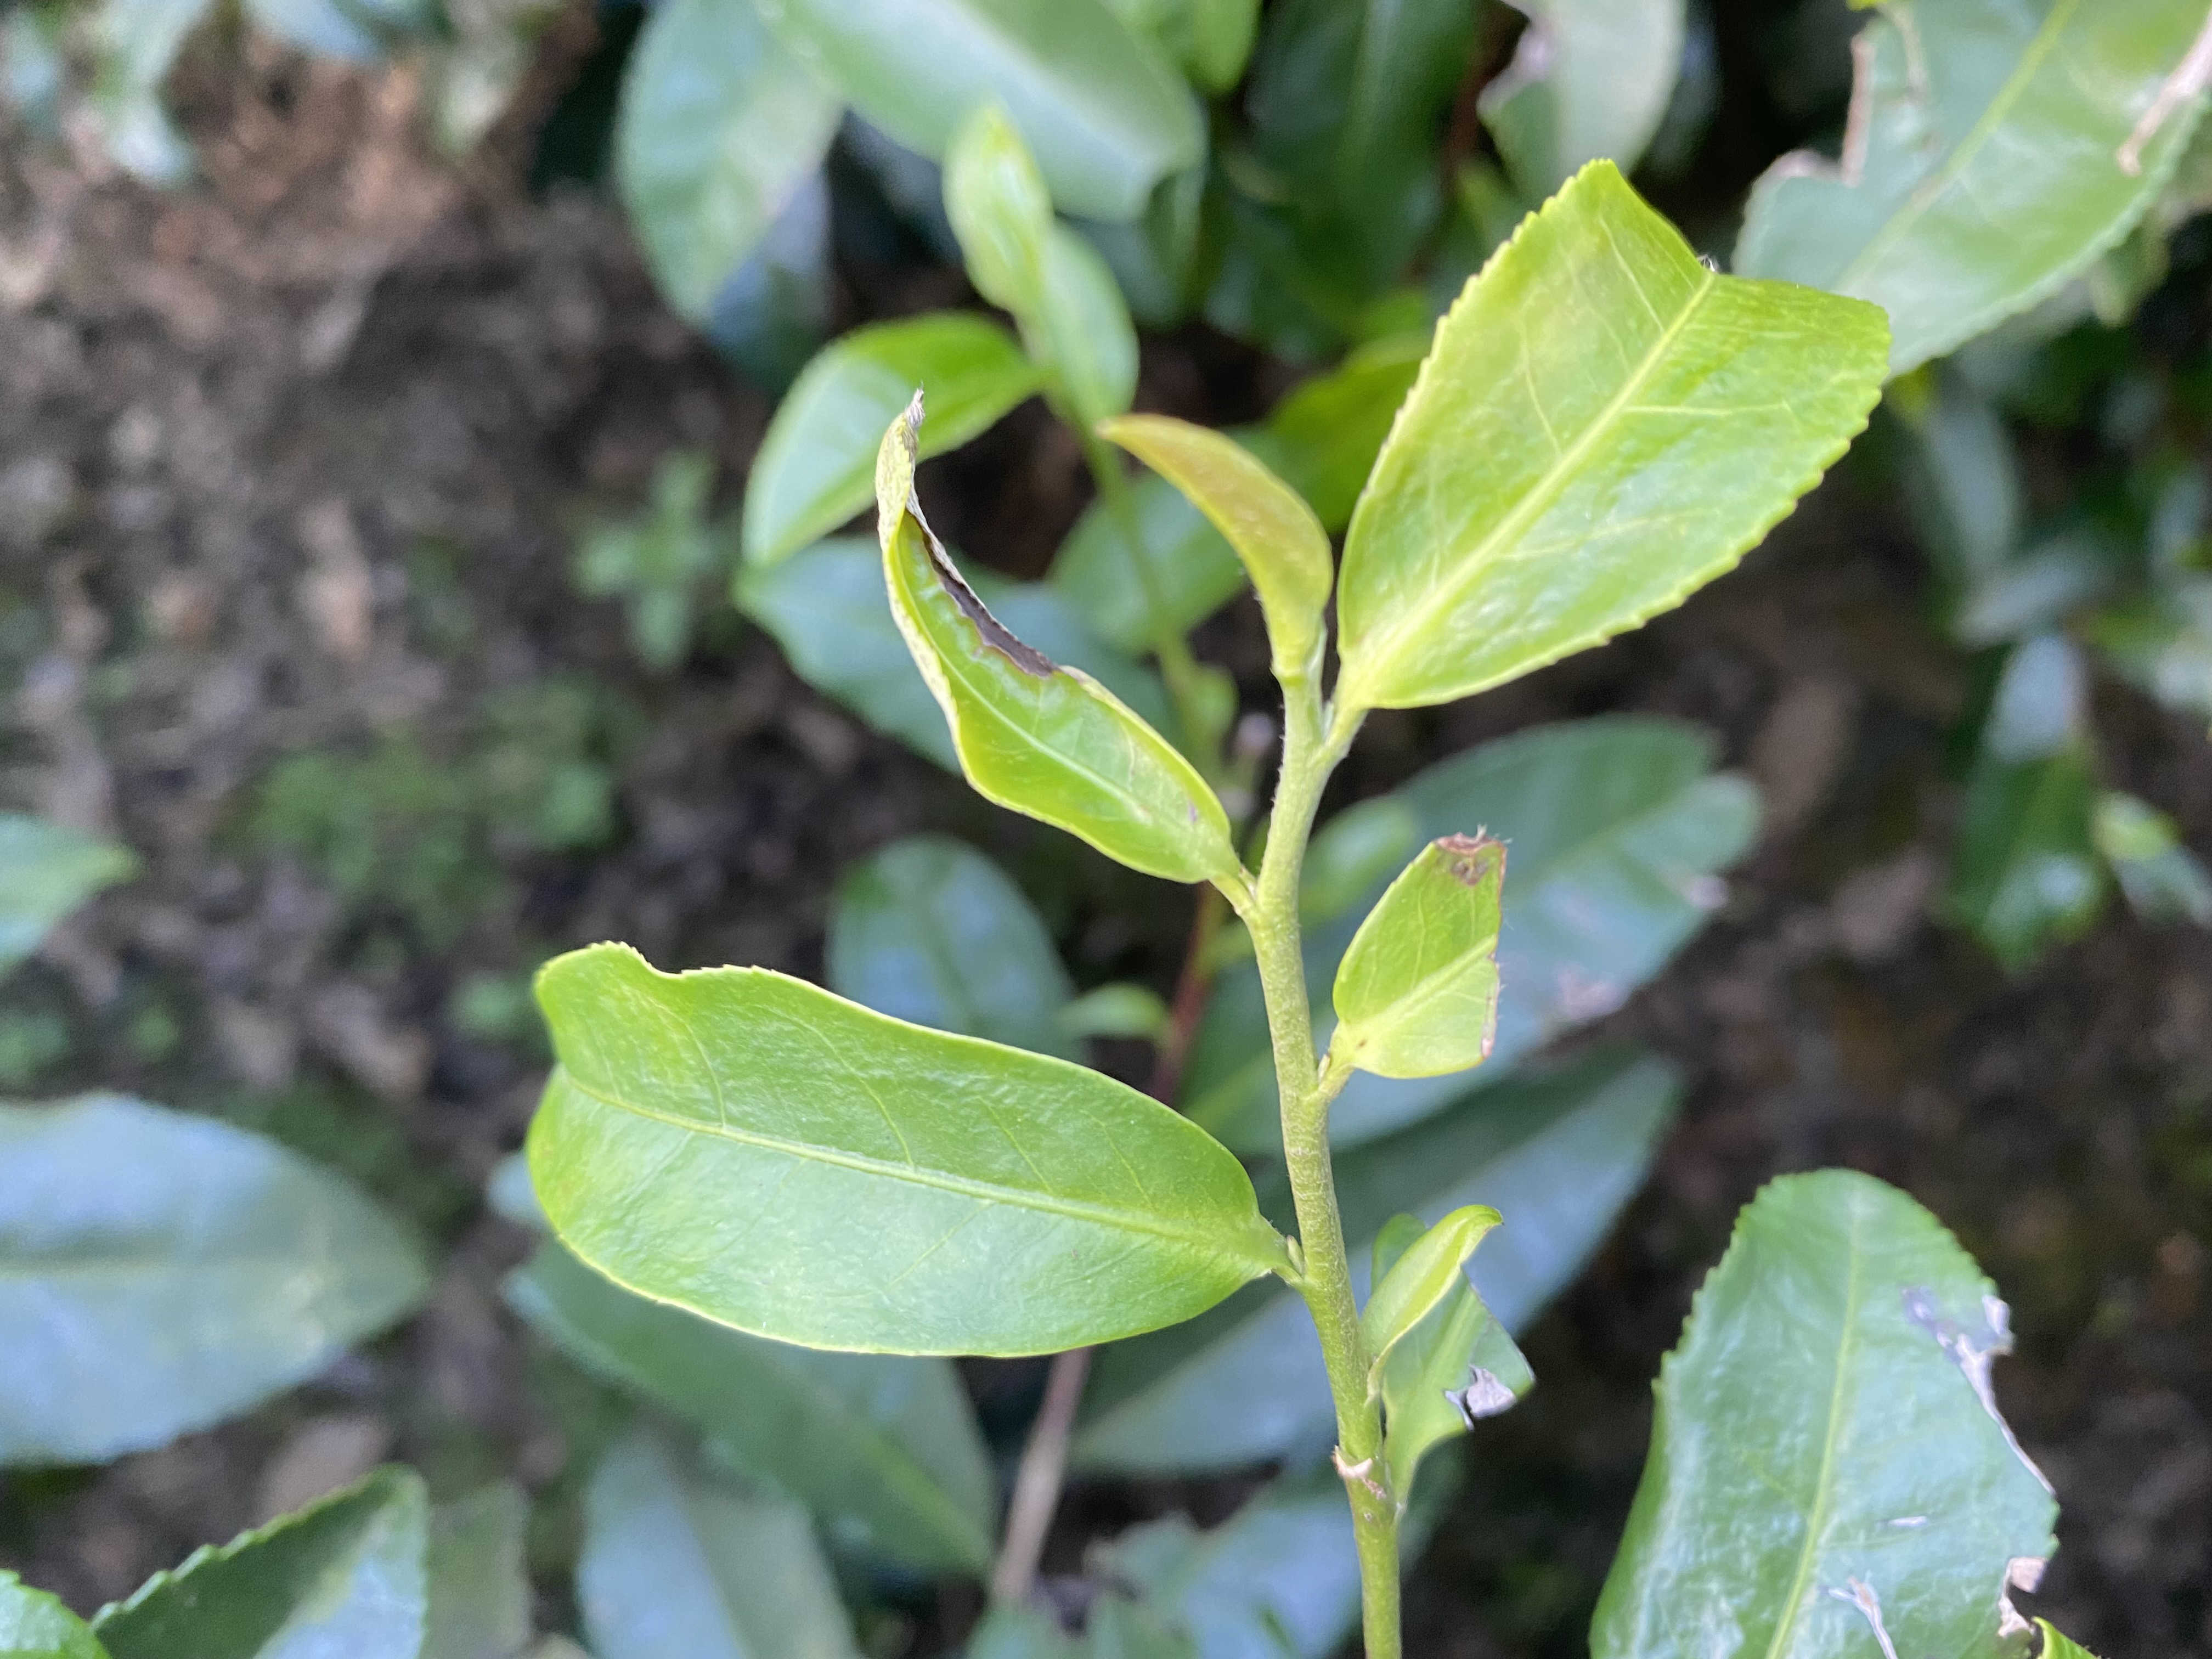chihuo_high: (1588, 1159, 2097, 1659), (1331, 828, 1515, 1080)
healthy: (1336, 155, 1902, 714), (519, 941, 1261, 1361)
tanju_high: (869, 385, 1230, 884)
tanju_low: (1092, 410, 1336, 678)
